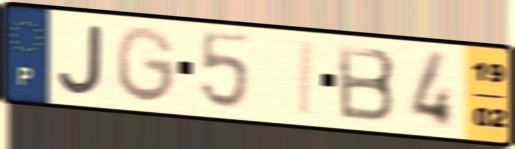4: (406, 48, 458, 134)
5: (197, 27, 251, 114)
B: (334, 42, 400, 125)
G: (113, 23, 178, 107)
I: (296, 38, 317, 120)
J: (55, 22, 106, 98)
